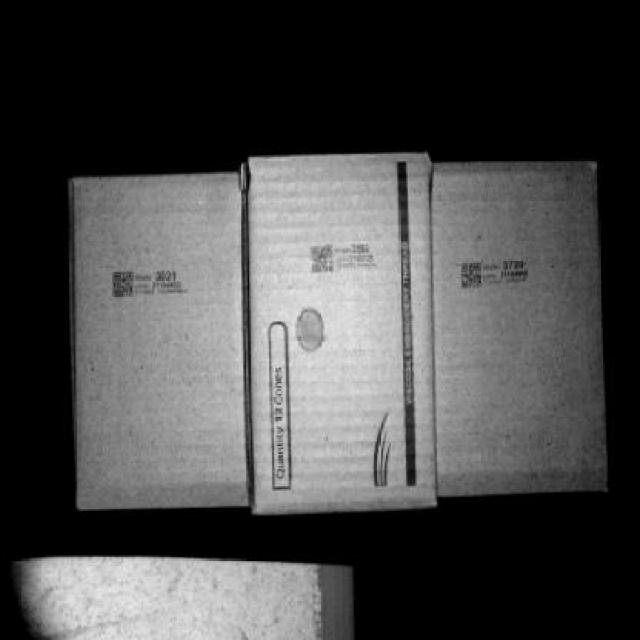cardboxes: (254, 158, 440, 513), (70, 169, 252, 511), (438, 164, 608, 490)
